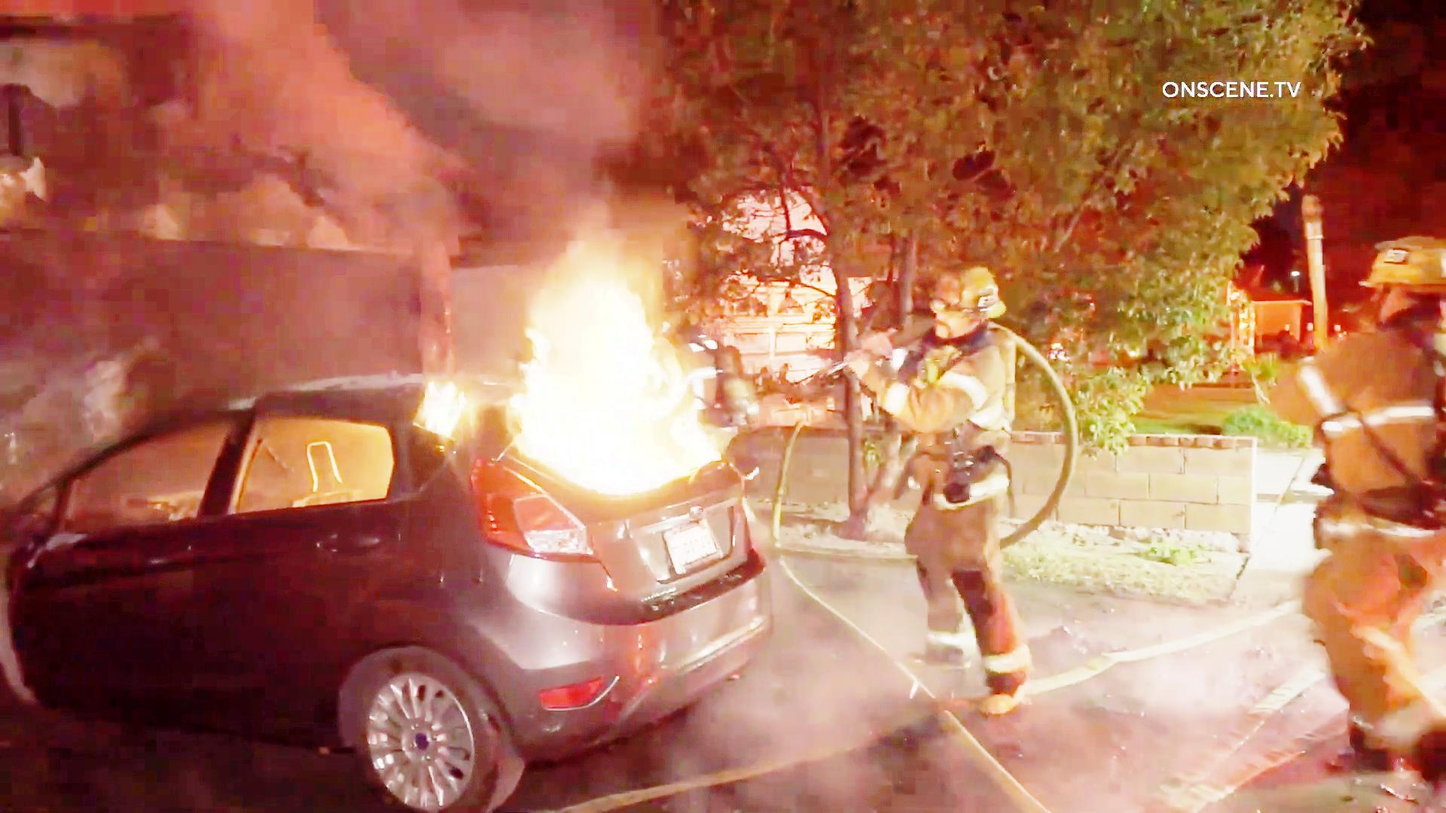smoke: (516, 247, 722, 502)
